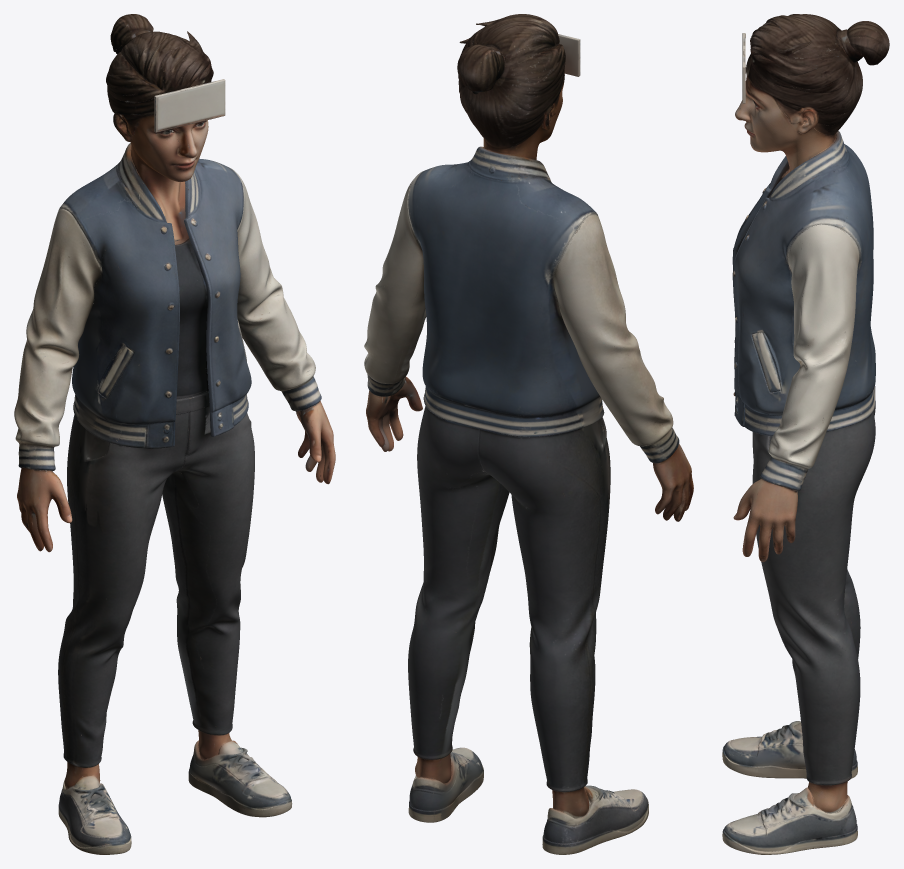
Rendered from c01f-varsity.glb.
The picture shows the model from 3 angles, left to right: view 1: azimuth 30°, elevation 25°; view 2: azimuth 150°, elevation 25°; view 3: azimuth 270°, elevation 25°; orthographic projection. The views are drawn at different scales.
Parts seen in each view (by area): view 1: mesh_uv.obj; view 2: mesh_uv.obj; view 3: mesh_uv.obj.
Part boxes in pixels (x1,y1,x2,y2): mesh_uv.obj: (14,14,335,854); mesh_uv.obj: (364,14,693,854); mesh_uv.obj: (722,14,889,854).
Size of the model in its own units: 0.7409 by 1.8 by 0.346.
Materials: 1 (1 with a texture image).
